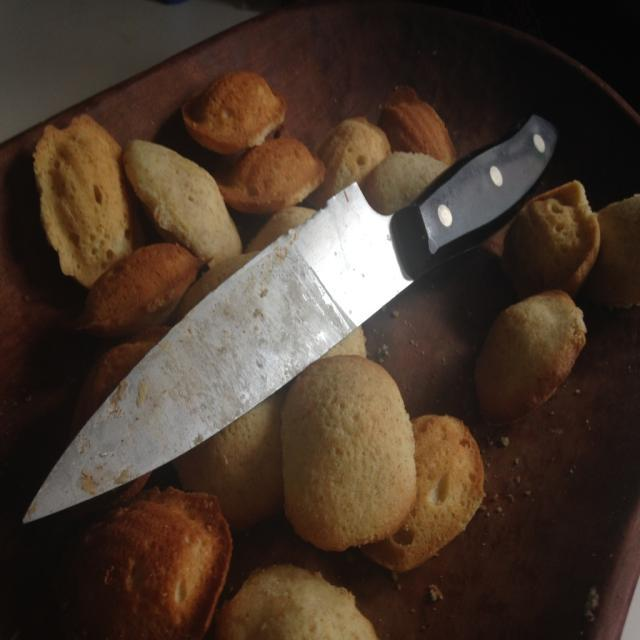Knife: (26, 115, 558, 522)
